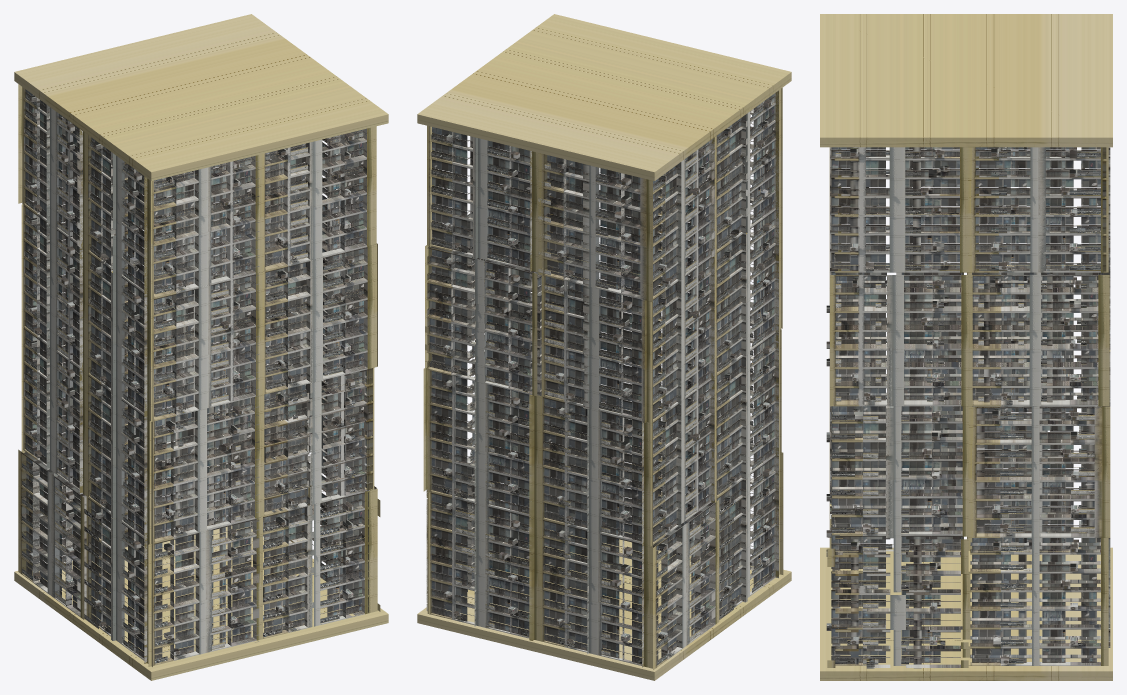
Rendered from building03.gltf.
3 views of the same model, side by side, from view 1: azimuth 30°, elevation 25°; view 2: azimuth 150°, elevation 25°; view 3: azimuth 270°, elevation 25° (orthographic). The views are drawn at different scales.
Visible parts, largest first — view 1: Cube.001_0; view 2: Cube.001_0; view 3: Cube.001_0.
Part boxes in pixels (<box>): Cube.001_0: <box>14,14,388,680</box>; Cube.001_0: <box>417,14,791,680</box>; Cube.001_0: <box>820,14,1112,680</box>.
Size of the model in its own units: 2.02 by 4.14 by 2.02.
3 materials, 3 textured.
